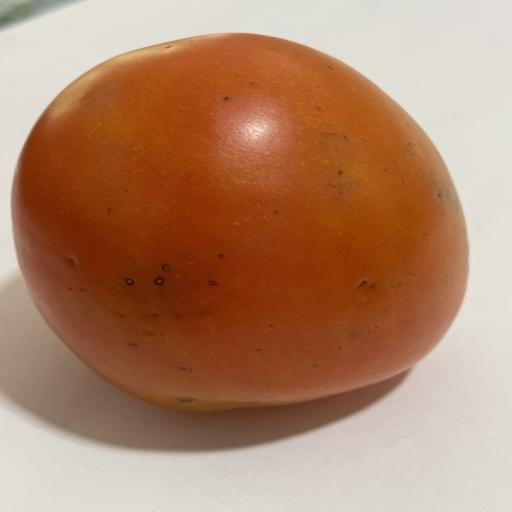ripe: (12, 34, 468, 410)
